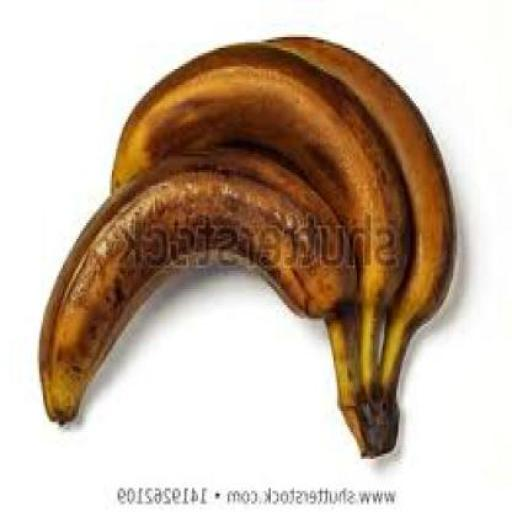biodegradable: (112, 40, 414, 454), (41, 141, 371, 456), (260, 32, 458, 453)
